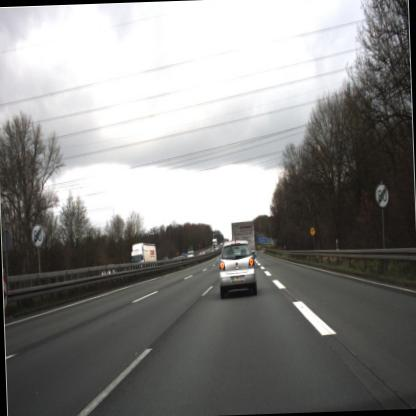other: (30, 220, 49, 254), (372, 182, 393, 208)
